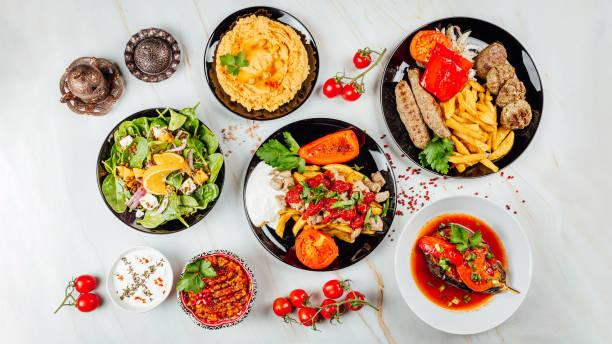Braised Crucian Carp: (379, 17, 540, 178), (243, 117, 392, 269), (392, 193, 531, 334), (95, 106, 221, 234), (202, 6, 315, 122)
